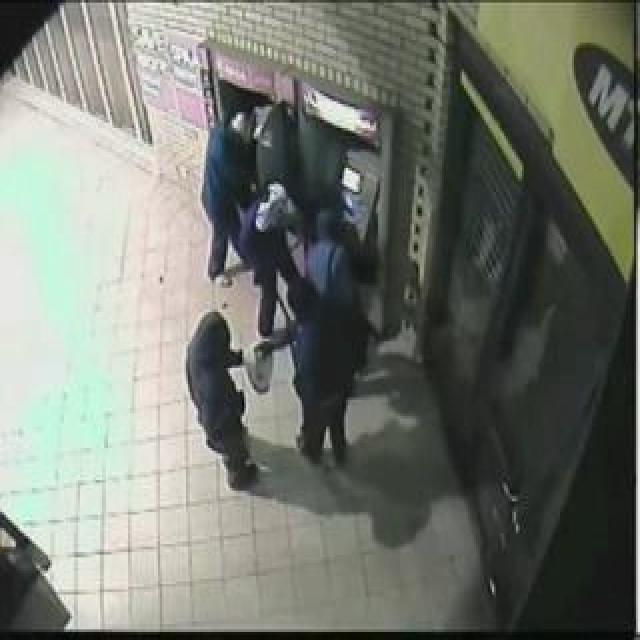thief: (199, 100, 360, 361)
